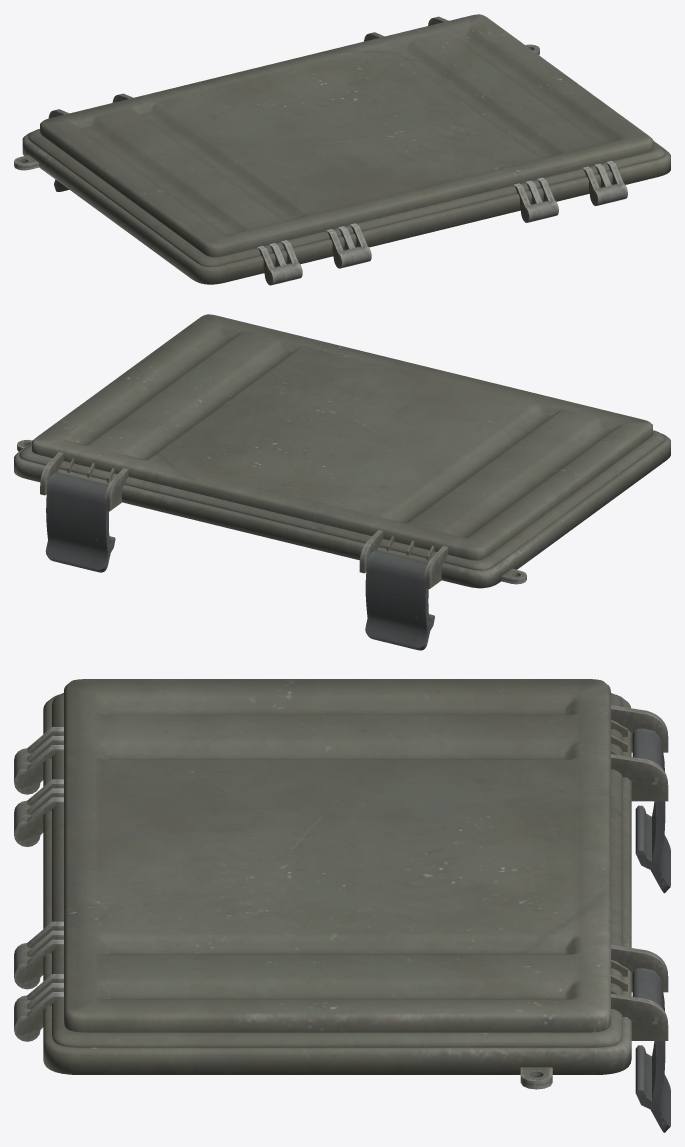
Rendered from SM_Ammo_Crate_01c.glb.
The picture shows the model from 3 angles, top to bottom: view 1: azimuth 30°, elevation 25°; view 2: azimuth 150°, elevation 25°; view 3: azimuth 270°, elevation 25°; orthographic projection. The views are drawn at different scales.
Parts seen in each view (by area): view 1: SM_Ammo_Crate_01c; view 2: SM_Ammo_Crate_01c; view 3: SM_Ammo_Crate_01c.
Part boxes in pixels (x1=…): SM_Ammo_Crate_01c: x1=14, y1=14, x2=670, y2=285; SM_Ammo_Crate_01c: x1=14, y1=314, x2=670, y2=650; SM_Ammo_Crate_01c: x1=14, y1=679, x2=670, y2=1132.
Size of the model in its own units: 1.05 by 0.1866 by 0.7526.
1 material, 1 textured.
